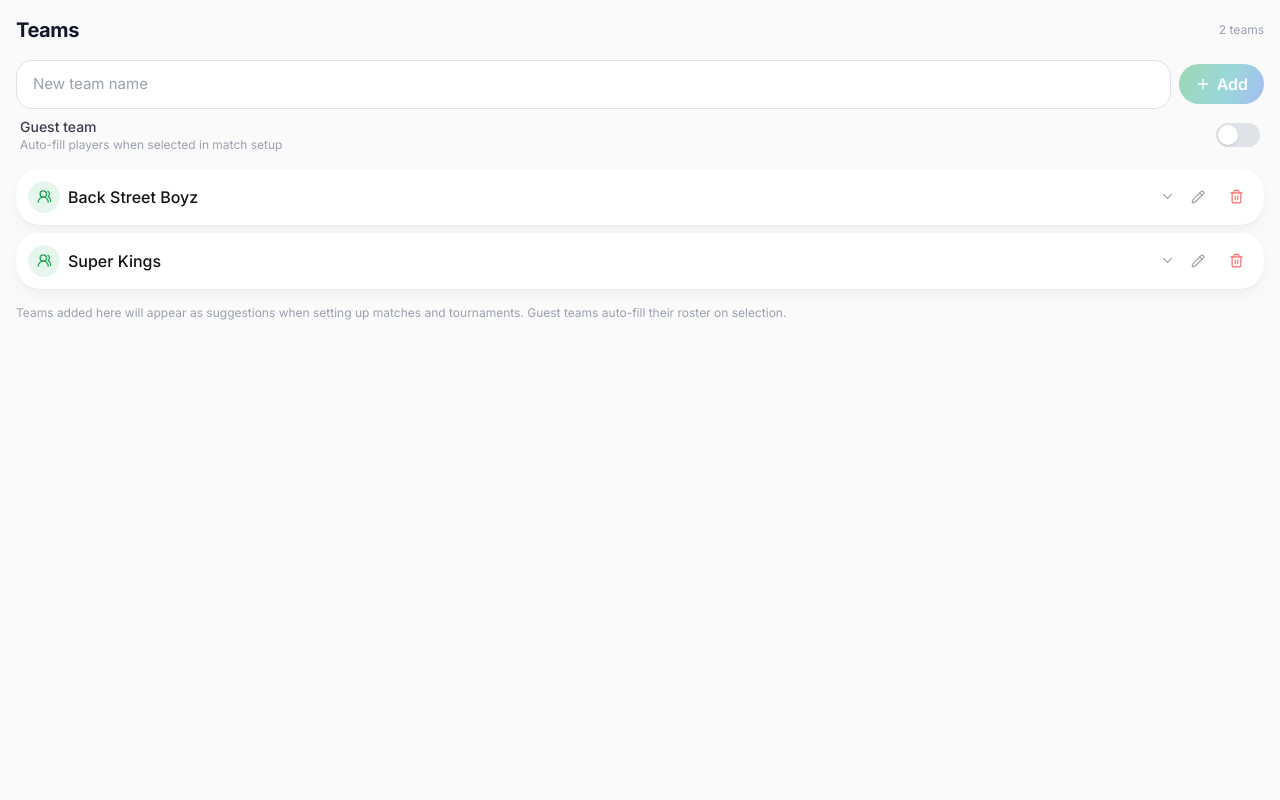
Teams — roster player filtering › shows all players in add panel for non-auction team
Expected: the text "Back Street Boyz" is shown, [68,184,198,208]
Click the button "Back Street Boyz" at (133, 196), box [68,184,1175,208]
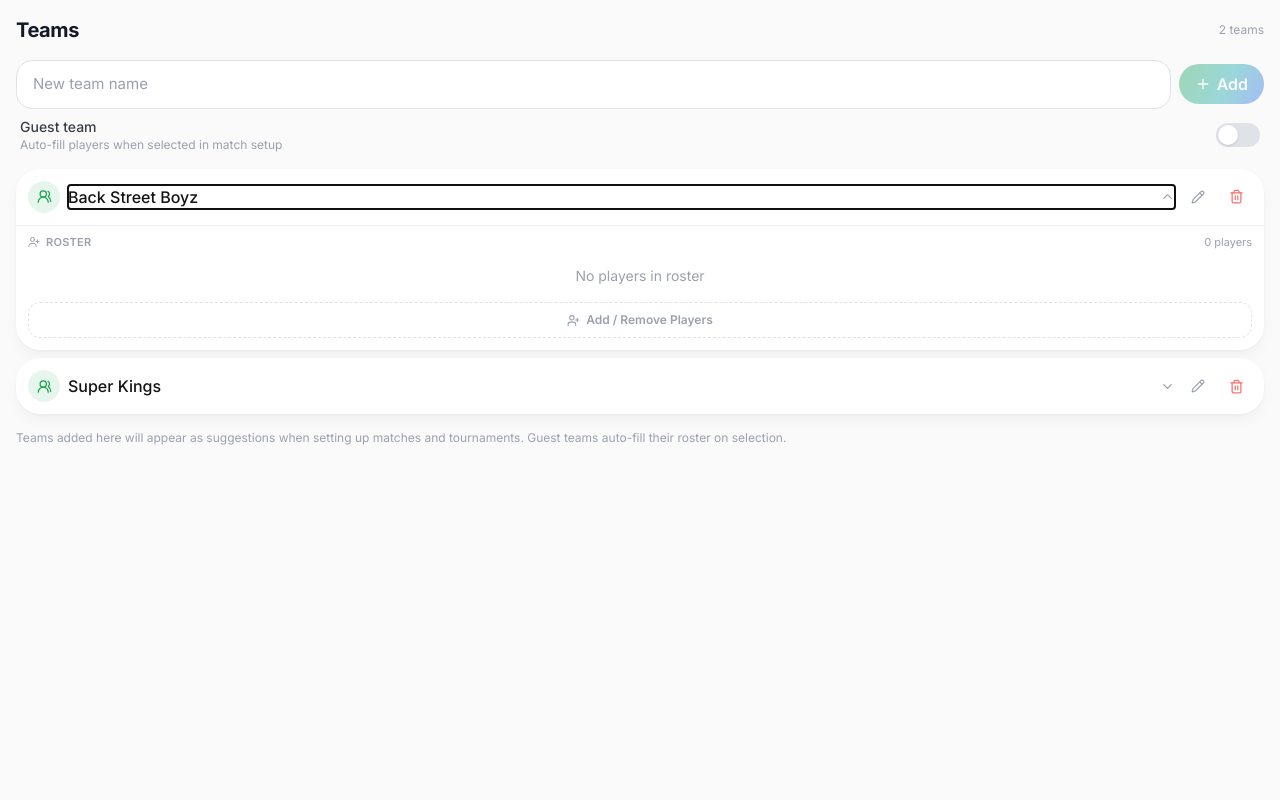
Result: the text "Roster" is shown at [28,234,92,250]
Click the button "Add / Remove Players" at (640, 320), box [28,302,1252,338]
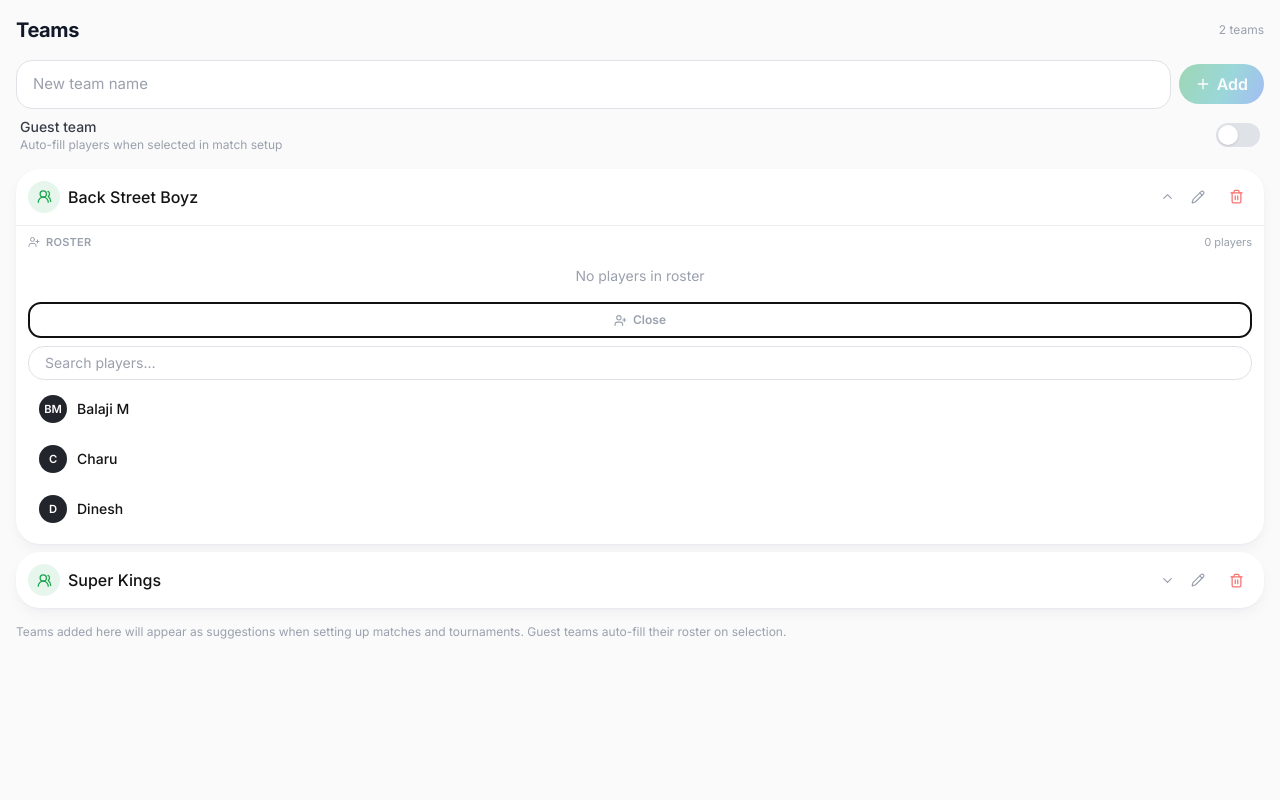
Result: the field with placeholder "Search players…" is shown at [28,346,1252,380]
Result: the text "Balaji M" is shown at [77,400,129,417]
Result: the text "Charu" is shown at [77,450,118,467]
